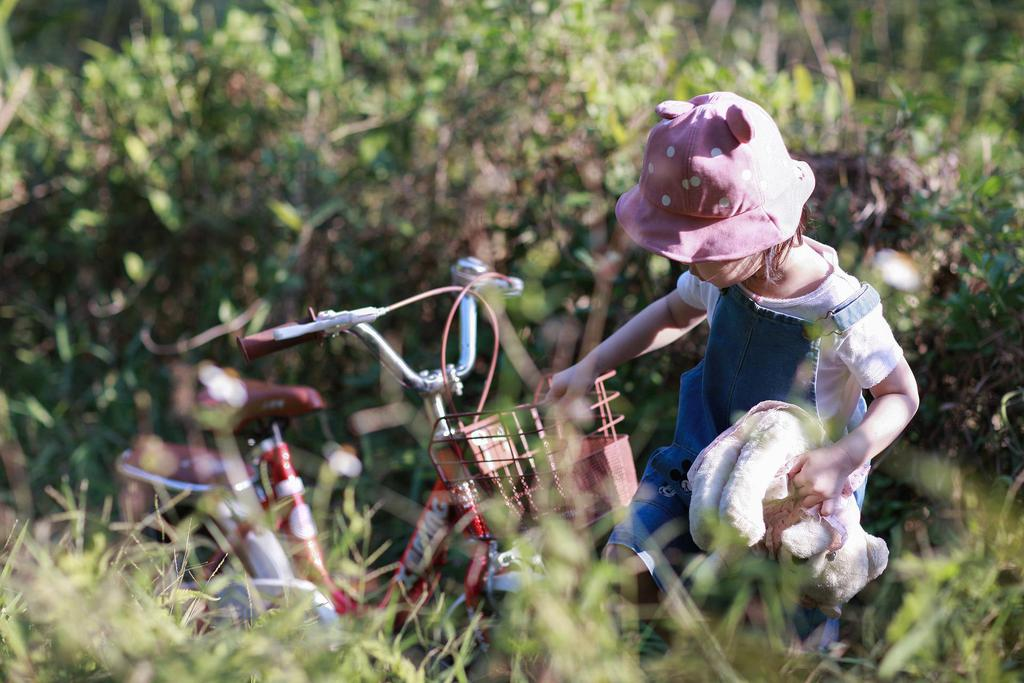child: (501, 90, 935, 629)
